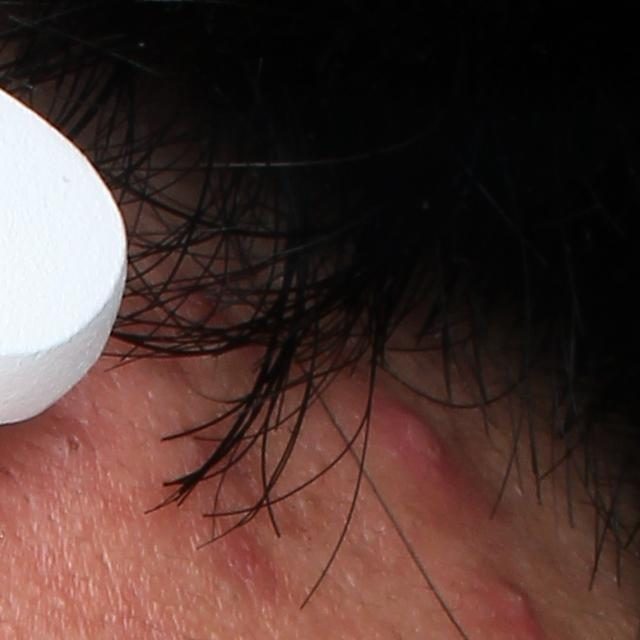comedo: (54, 427, 88, 461)
papule: (369, 387, 482, 511), (470, 570, 540, 640)
